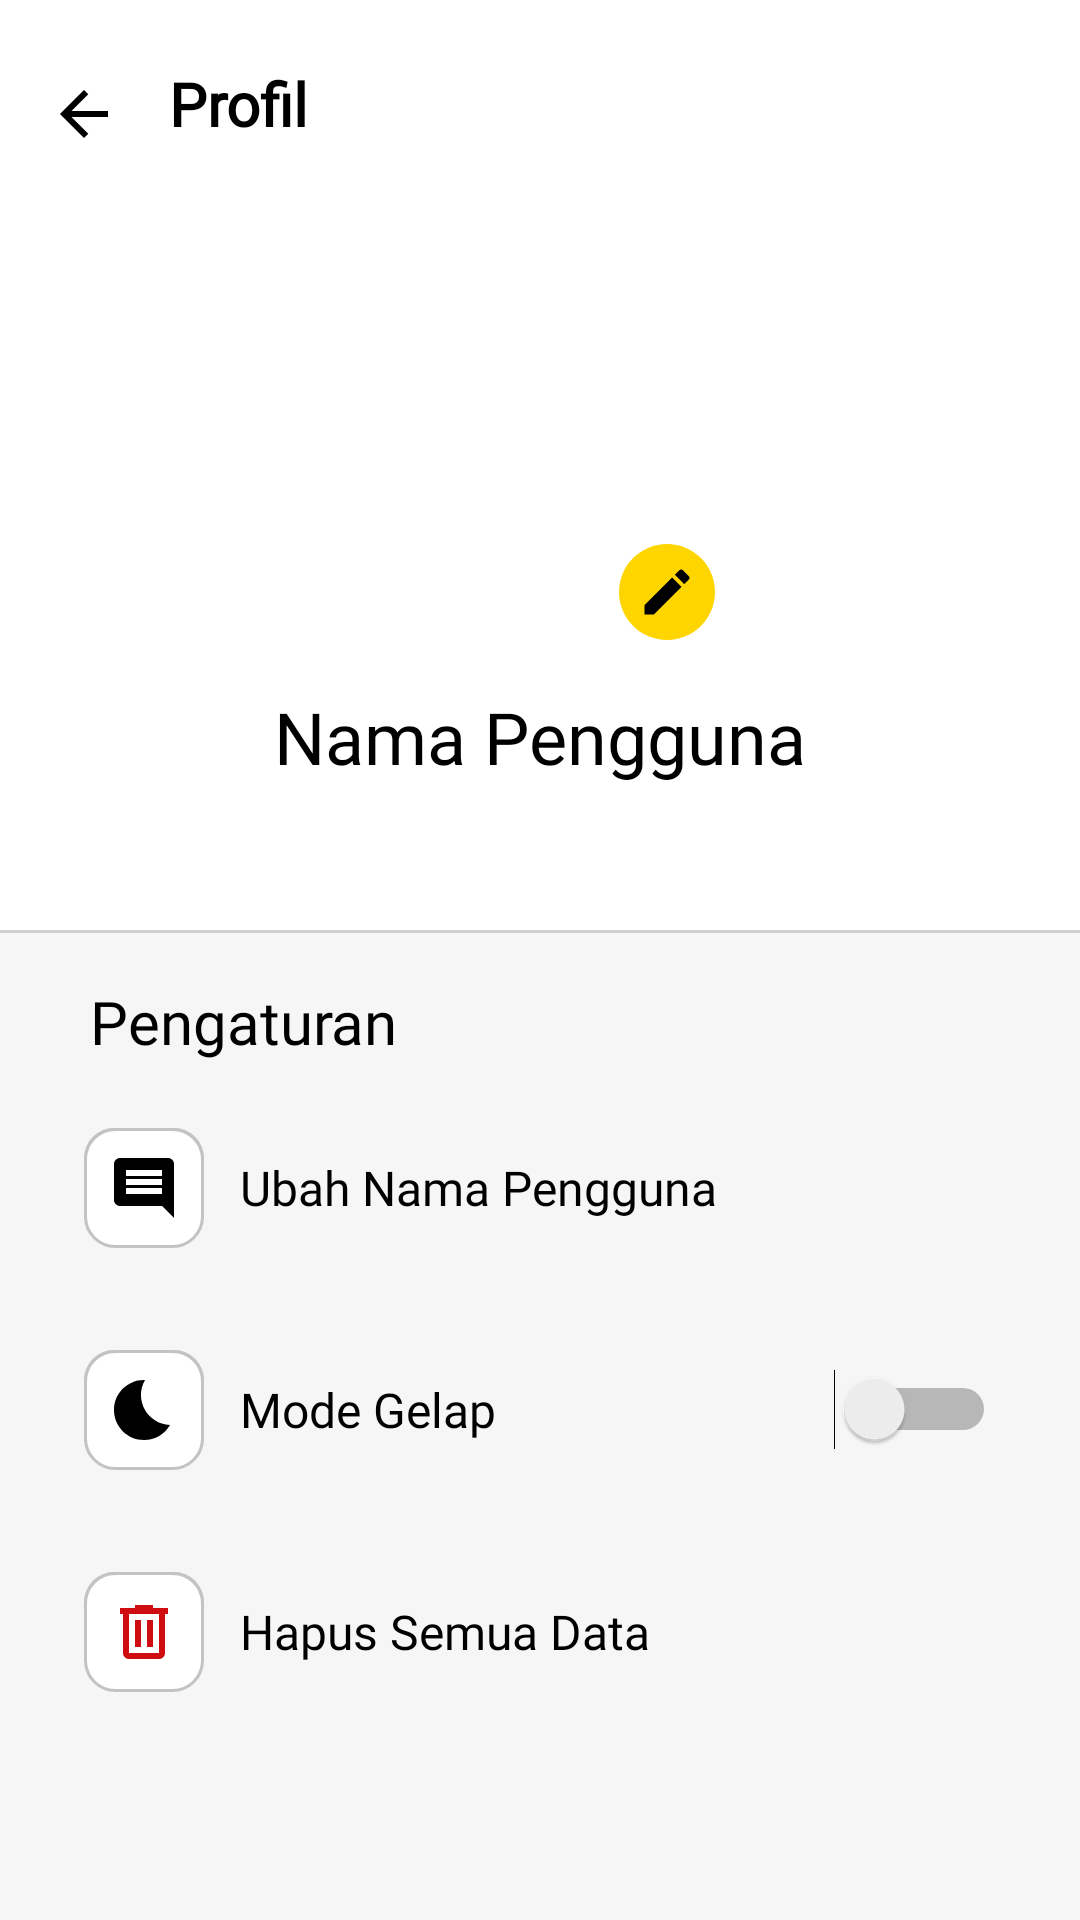

Icon bounding boxes for this 1080×1920 phone screenshot, format bbox=[x1, y1, x2, y2]:
arrow: bbox=[60, 90, 108, 138]
comment: bbox=[84, 1128, 204, 1248]
edit: bbox=[619, 544, 715, 640]
moon: bbox=[84, 1350, 204, 1470]
